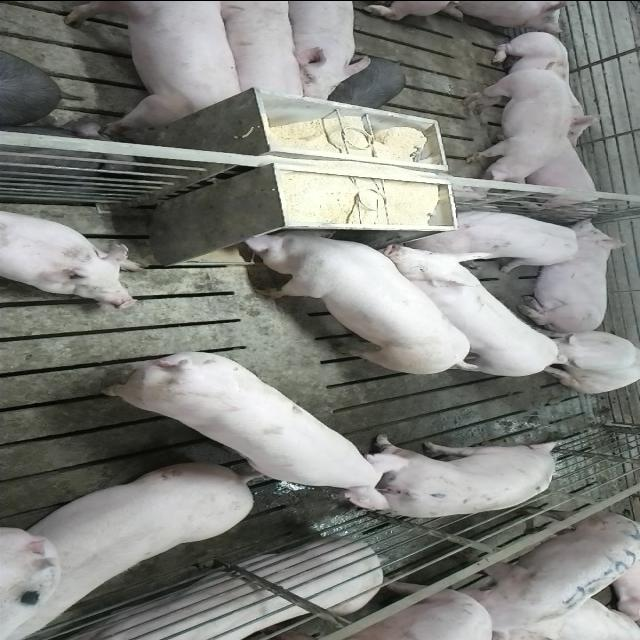Feeding: (239, 218, 477, 370)
Sitting: (533, 328, 639, 392)
Standing: (89, 346, 399, 504), (7, 457, 263, 634), (432, 509, 640, 640), (370, 243, 562, 380), (58, 1, 250, 134), (364, 434, 568, 518), (462, 64, 570, 188), (211, 2, 307, 104), (418, 210, 580, 270), (287, 0, 371, 104)
Sternal_lying: (59, 538, 496, 640), (0, 204, 142, 306), (482, 28, 608, 140), (516, 218, 628, 331), (520, 137, 606, 213)
